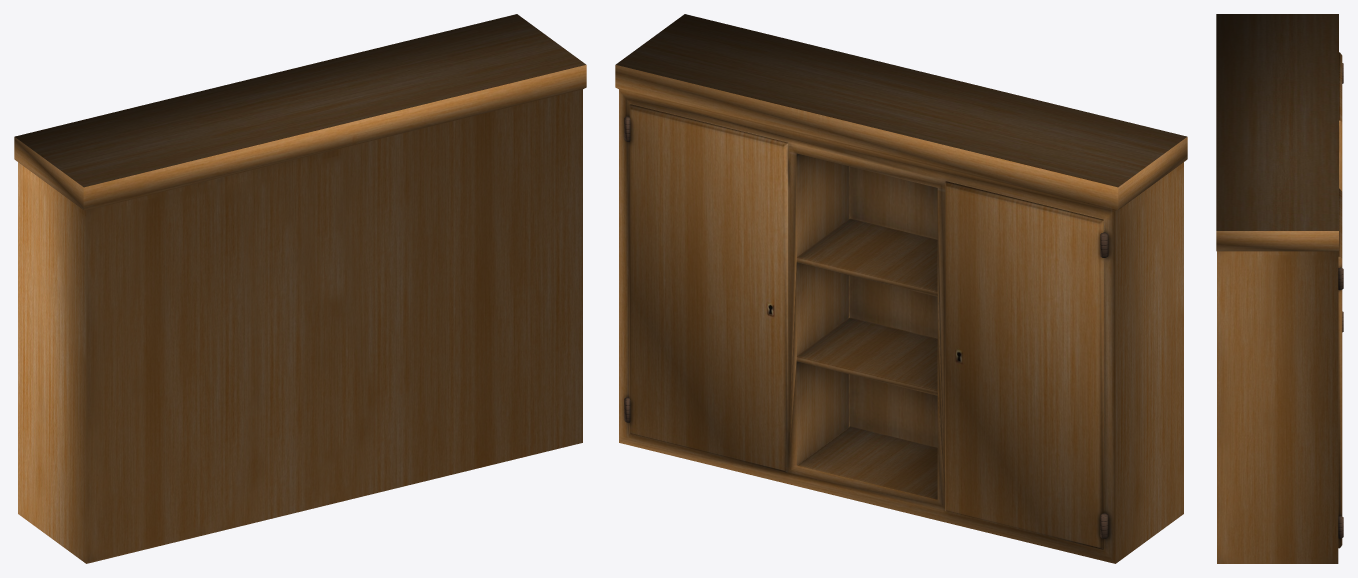
File: closet.obj
The picture shows the model from 3 angles, left to right: view 1: azimuth 30°, elevation 25°; view 2: azimuth 150°, elevation 25°; view 3: azimuth 270°, elevation 25°; orthographic projection. The views are drawn at different scales.
Parts seen in each view (by area): view 1: closet; view 2: closet; view 3: closet.
Boxes of the visible parts, box(x1,y1,x2,y2) form: closet: box(14, 14, 586, 563); closet: box(615, 14, 1187, 563); closet: box(1216, 14, 1343, 563).
Bounding box in the file's own units: 270 × 193 × 66.9.
1 material, 1 textured.
